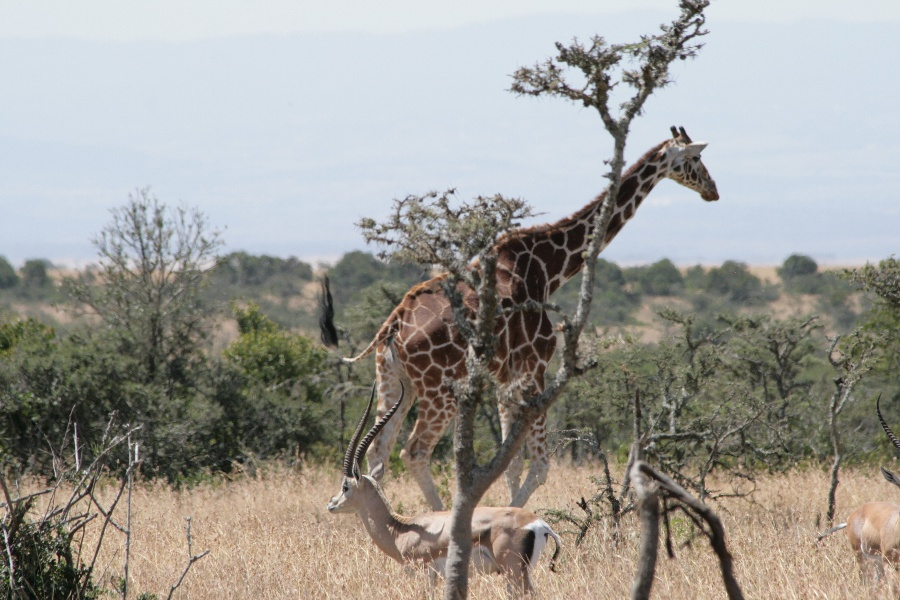giraffe: (342, 119, 725, 534)
